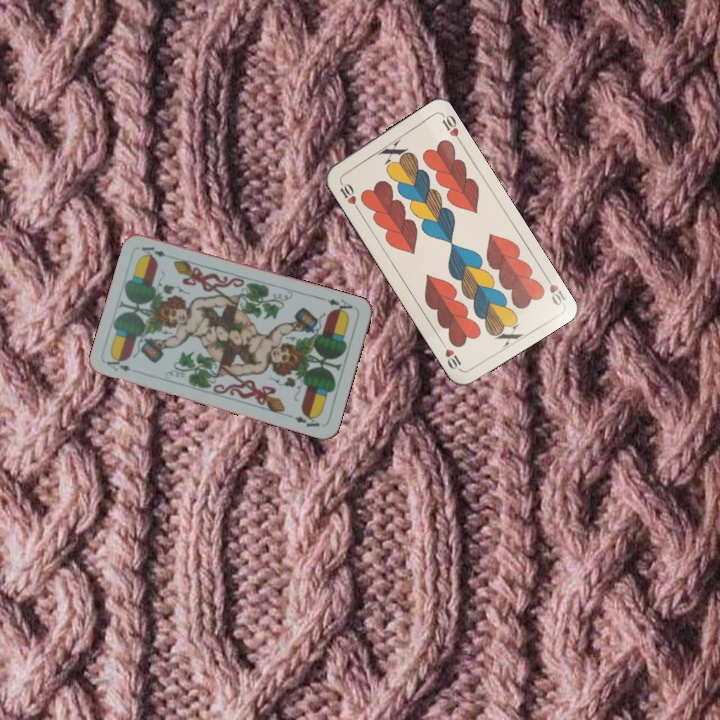EA: (102, 353, 142, 376), (318, 295, 355, 317)
H10: (540, 270, 568, 308), (335, 176, 362, 213)
